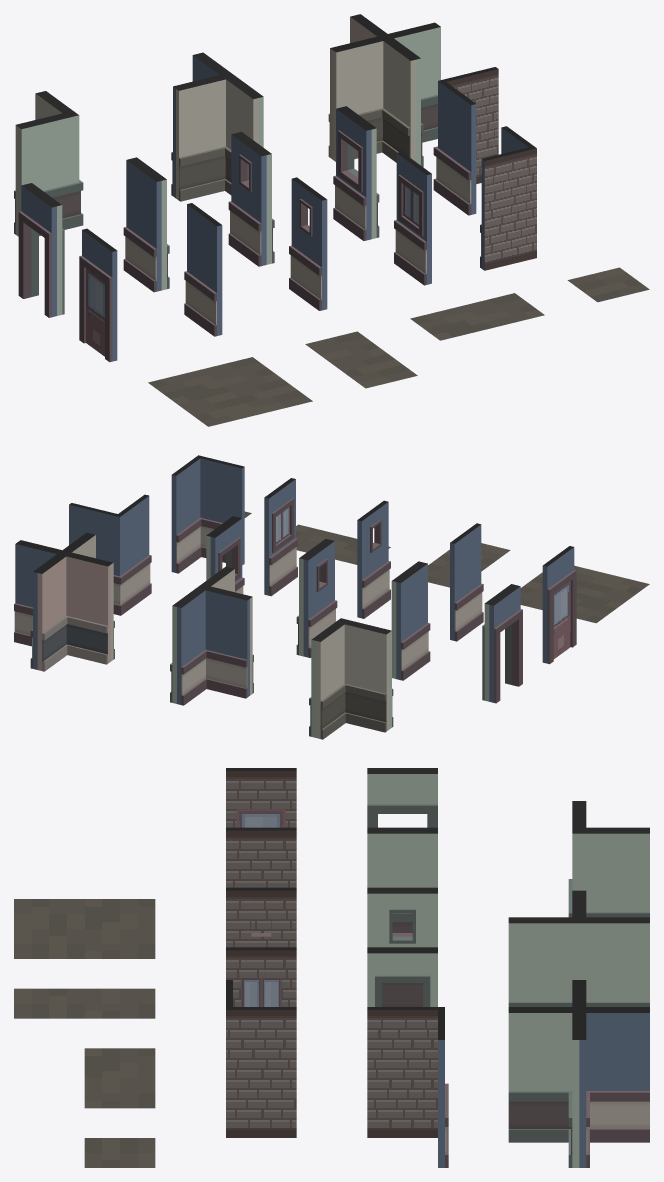
The model's file is lowpoly_modular_walls.glb.
The picture shows the model from 3 angles, top to bottom: view 1: azimuth 30°, elevation 25°; view 2: azimuth 150°, elevation 25°; view 3: azimuth 270°, elevation 25°; orthographic projection. The views are drawn at different scales.
Visible parts, largest first — view 1: mesh_doublewall_cross_4, mesh_doublewall_cross_3, mesh_wall_corner_outside, mesh_wall_corner, mesh_doublewall_corner, mesh_floor_2x2, mesh_doublewall_window_small, mesh_doublewall_straight, mesh_doublewall_window, mesh_doublewall_door, mesh_wall_window_small, mesh_wall_straight (+6 smaller); view 2: mesh_doublewall_cross_4, mesh_doublewall_cross_3, mesh_doublewall_corner, mesh_wall_corner, mesh_wall_corner_outside, mesh_doublewall_straight, mesh_doublewall_door, mesh_doublewall_window_small, mesh_wall_straight, mesh_wall_window_small, mesh_floor_2x2, mesh_wall_window (+5 smaller); view 3: mesh_doublewall_cross_4, mesh_doublewall_cross_3, mesh_wall_corner_outside, mesh_wall_corner, mesh_floor_2x2, mesh_doublewall_corner, mesh_doublewall_window_small, mesh_wall_straight, mesh_doublewall_straight, mesh_floor_1x2, mesh_floor_2x1, mesh_wall_window_small (+8 smaller).
Part boxes in pixels (box(x1,y1,x2,y2)): mesh_doublewall_cross_4: box(328, 14, 440, 167); mesh_doublewall_cross_3: box(171, 52, 263, 201); mesh_wall_corner_outside: box(433, 67, 498, 215); mesh_wall_corner: box(480, 126, 536, 270); mesh_doublewall_corner: box(14, 91, 83, 236); mesh_floor_2x2: box(148, 357, 312, 426); mesh_doublewall_window_small: box(228, 132, 274, 266); mesh_doublewall_straight: box(123, 157, 169, 292); mesh_doublewall_window: box(333, 106, 379, 240); mesh_doublewall_door: box(18, 183, 64, 317); mesh_wall_window_small: box(289, 177, 327, 310); mesh_wall_straight: box(184, 203, 222, 336); mesh_doublewall_cross_4: box(14, 532, 114, 671); mesh_doublewall_cross_3: box(170, 566, 253, 705); mesh_doublewall_corner: box(309, 618, 393, 739); mesh_wall_corner: box(171, 455, 244, 573); mesh_wall_corner_outside: box(69, 494, 151, 615); mesh_doublewall_straight: box(391, 561, 430, 680); mesh_doublewall_door: box(482, 584, 522, 703); mesh_doublewall_window_small: box(296, 539, 337, 657); mesh_wall_straight: box(450, 523, 483, 641); mesh_wall_window_small: box(357, 500, 390, 618); mesh_floor_2x2: box(520, 565, 649, 623); mesh_wall_window: box(264, 478, 297, 596); mesh_doublewall_cross_4: box(508, 980, 649, 1167); mesh_doublewall_cross_3: box(508, 890, 649, 1006); mesh_wall_corner_outside: box(367, 1007, 448, 1167); mesh_wall_corner: box(226, 980, 296, 1137); mesh_floor_2x2: box(14, 899, 155, 958); mesh_doublewall_corner: box(568, 801, 649, 917); mesh_doublewall_window_small: box(367, 887, 437, 1006); mesh_wall_straight: box(226, 827, 296, 932); mesh_doublewall_straight: box(367, 827, 437, 932); mesh_floor_1x2: box(14, 988, 155, 1018); mesh_floor_2x1: box(84, 1048, 155, 1108); mesh_wall_window_small: box(226, 887, 296, 947).
Size of the model in its own units: 915 by 200 by 900.
Materials: 8 (8 with a texture image).
